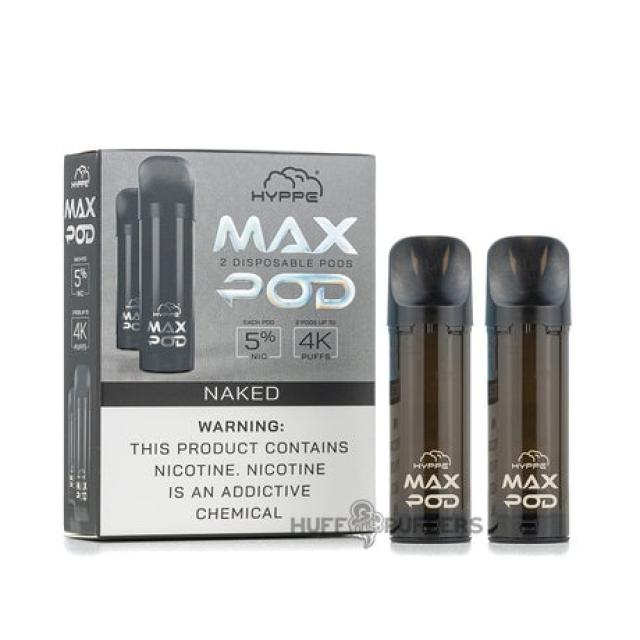Hazard: (61, 147, 377, 544)
